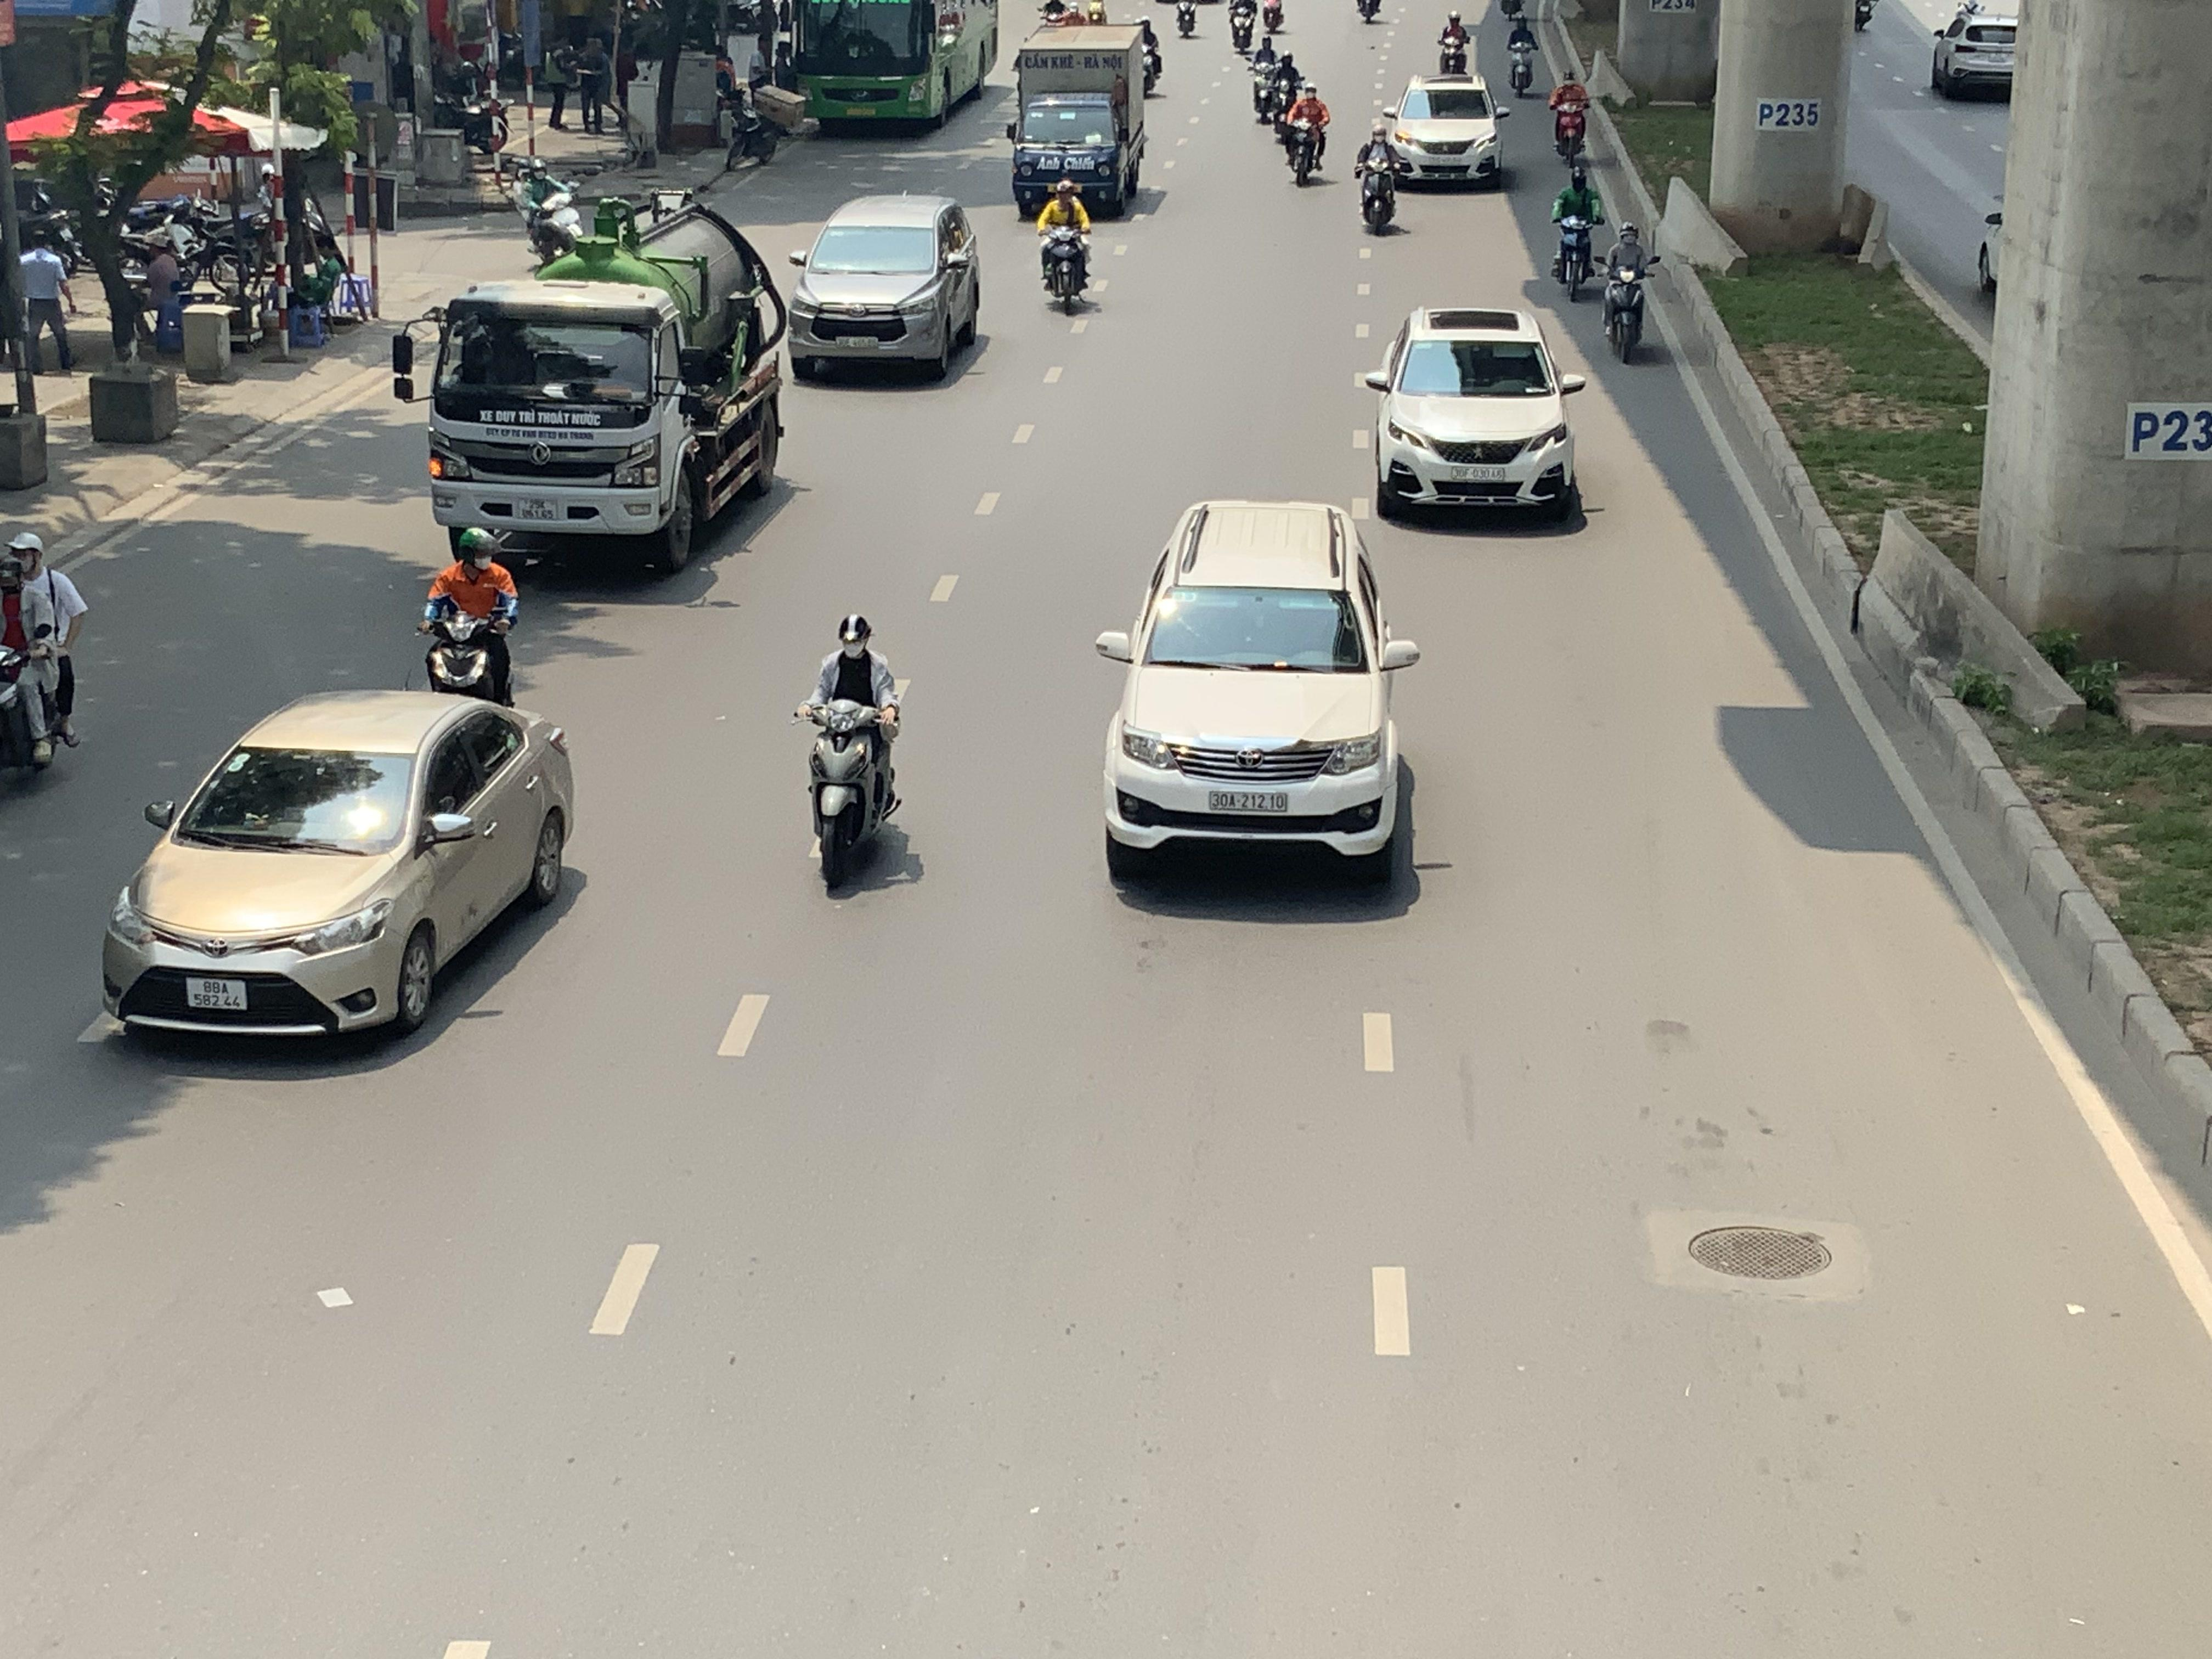BSD: (1211, 789, 1287, 812), (1451, 467, 1507, 481), (836, 336, 878, 349)
BSV: (186, 978, 247, 1009), (517, 498, 557, 521)
bus: (787, 0, 1003, 134)
car: (99, 688, 578, 1047), (1092, 498, 1421, 885), (1357, 305, 1587, 526), (787, 193, 984, 385), (1381, 75, 1512, 188), (1930, 0, 2020, 101)
motorbike: (798, 615, 904, 897), (0, 532, 85, 814), (420, 526, 521, 708), (1601, 220, 1658, 364), (1038, 178, 1094, 314), (1550, 166, 1604, 300), (1355, 119, 1406, 235), (721, 78, 782, 171), (1278, 80, 1331, 186), (1548, 68, 1592, 167), (1247, 40, 1291, 125), (1503, 12, 1540, 96), (1437, 9, 1475, 78), (1226, 0, 1258, 52), (1174, 0, 1200, 38), (1038, 0, 1071, 26), (1355, 0, 1385, 24)
truck: (418, 193, 791, 575), (1007, 21, 1153, 220)
